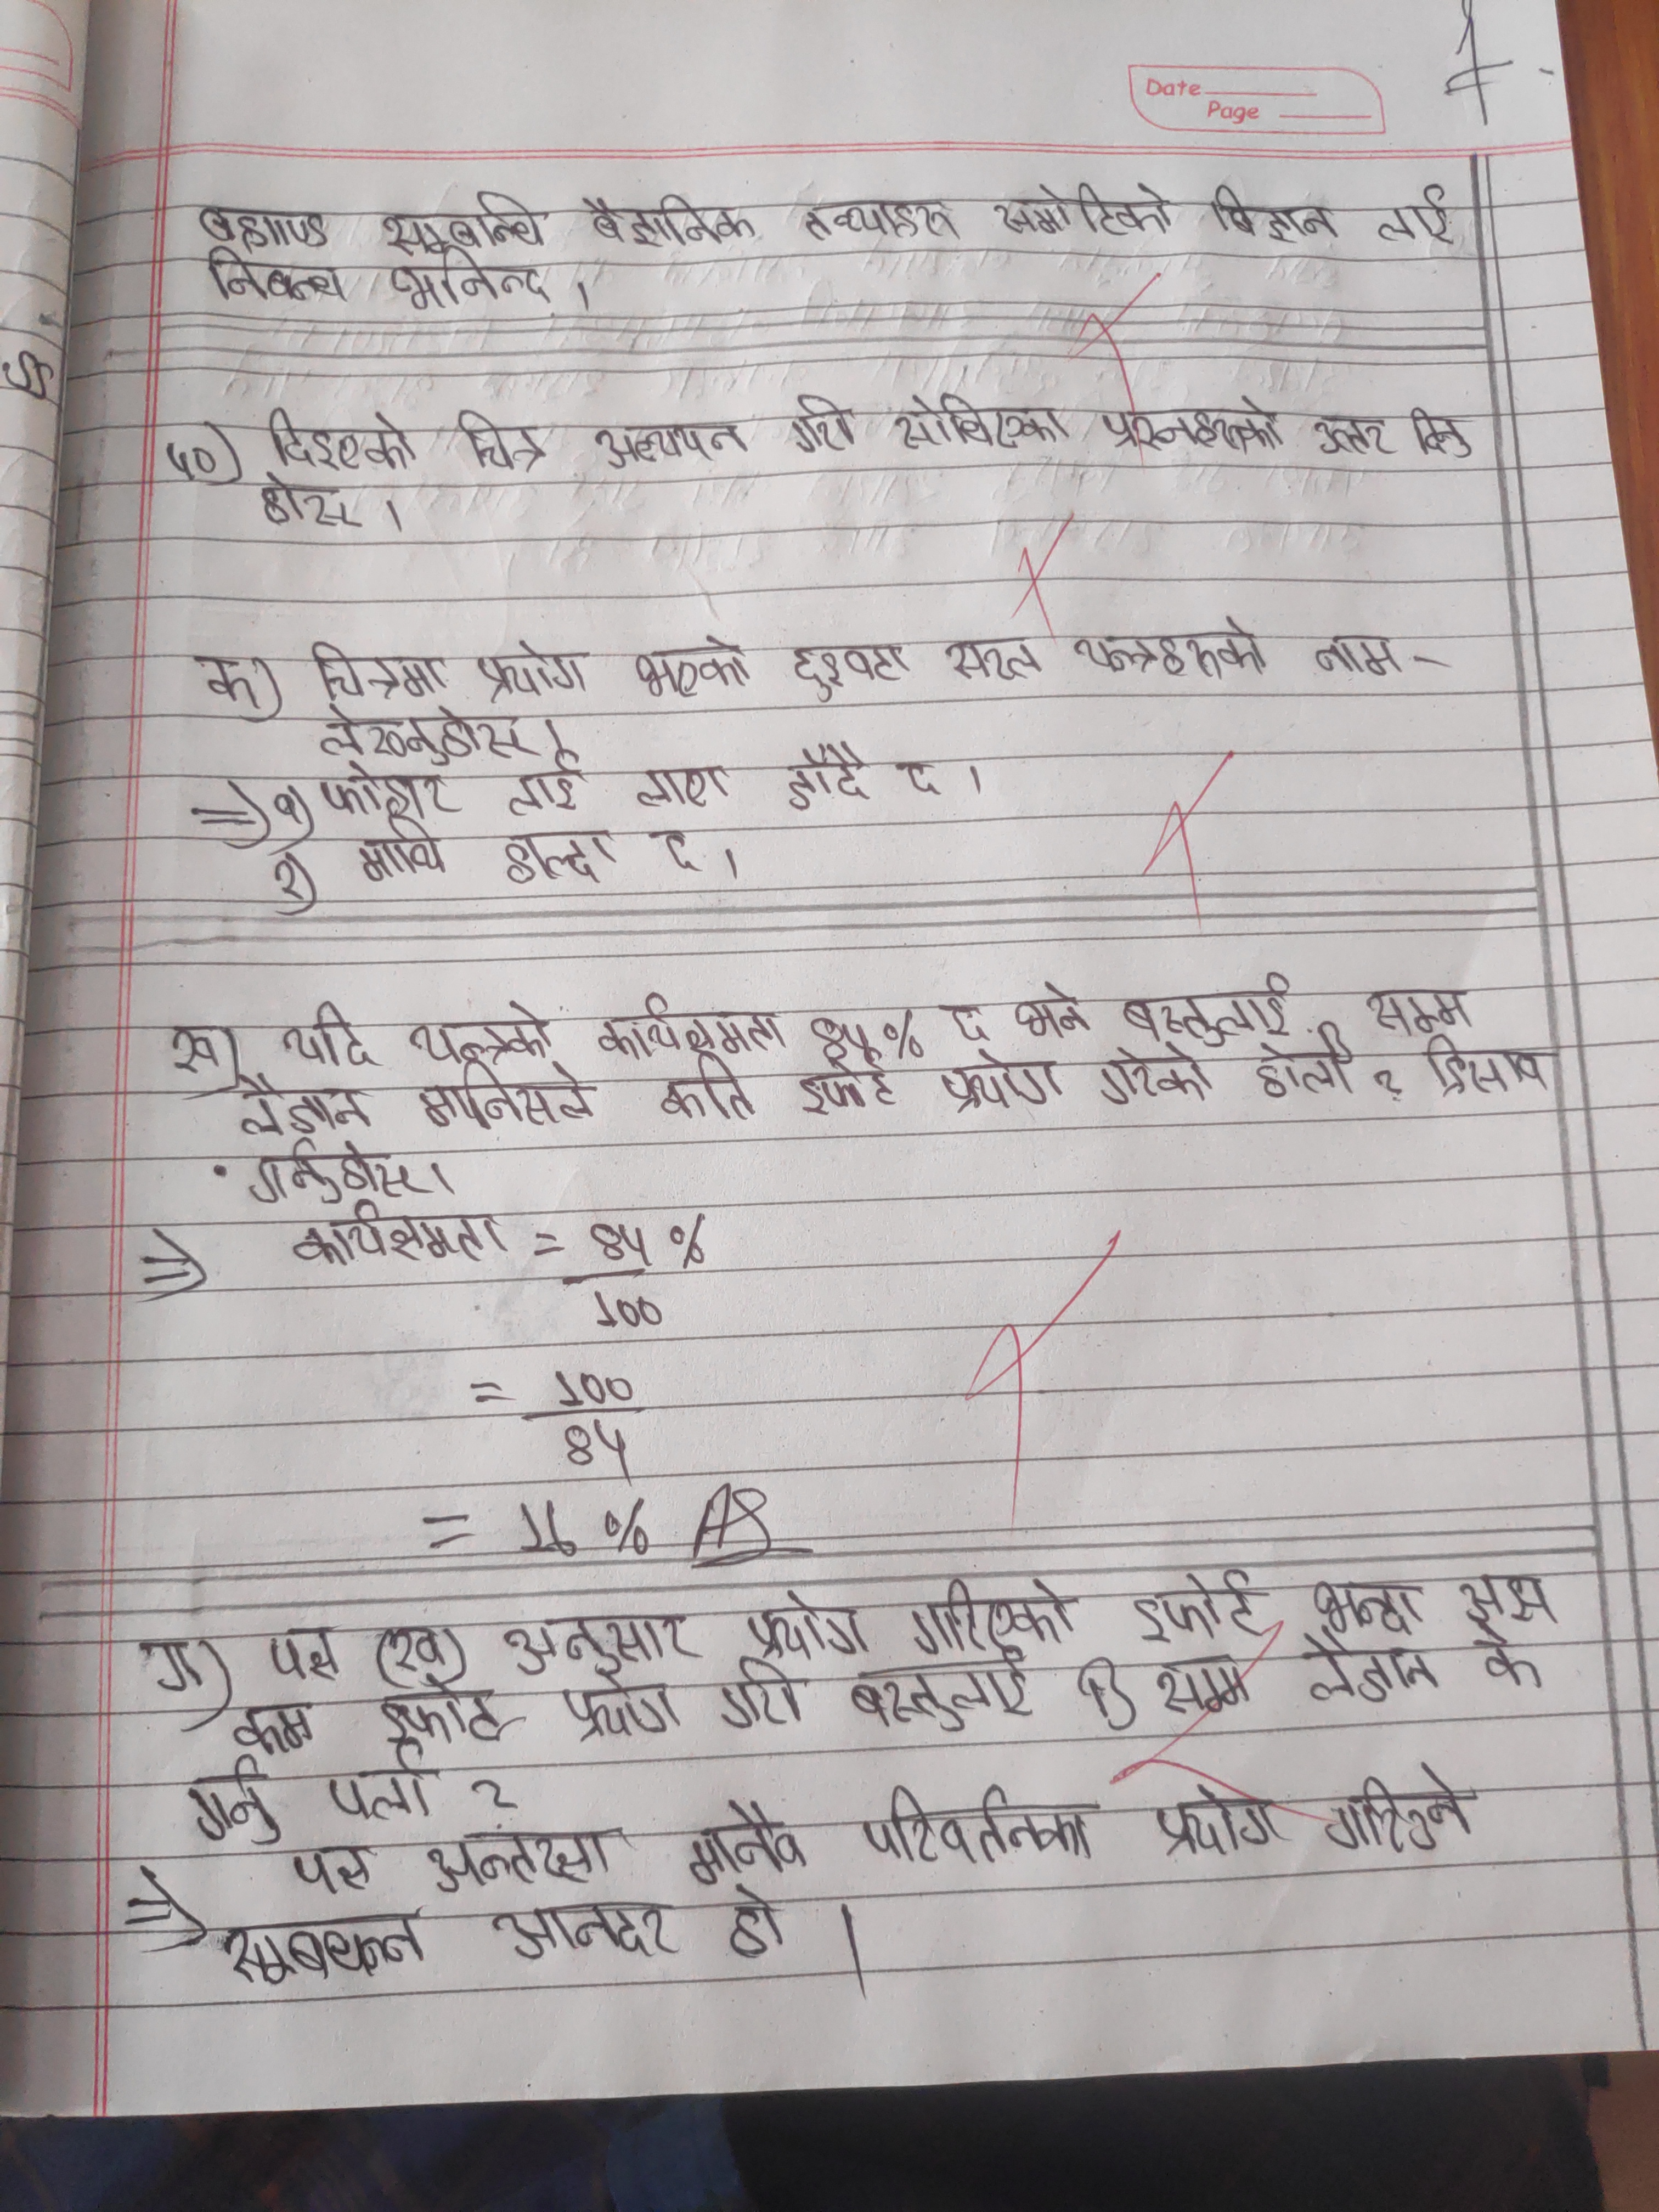text: (859, 1789, 1105, 1865), (836, 1646, 1042, 1733), (221, 1911, 436, 1987), (497, 1609, 697, 1684), (1317, 1770, 1480, 1860), (308, 707, 554, 765), (1072, 615, 1279, 683), (1117, 967, 1302, 1042), (596, 989, 793, 1059), (491, 1892, 676, 1965), (291, 1204, 511, 1264), (422, 1827, 620, 1893), (903, 1578, 1087, 1648), (575, 188, 765, 254), (416, 1068, 601, 1136), (232, 1139, 425, 1202), (260, 404, 429, 475), (990, 176, 1178, 239), (1127, 1566, 1274, 1646), (1098, 392, 1288, 453), (376, 247, 558, 310), (683, 1806, 810, 1895), (889, 390, 1073, 451), (225, 1071, 390, 1139), (373, 195, 558, 254), (1293, 1630, 1445, 1702), (314, 1745, 441, 1827), (406, 1000, 566, 1064), (1148, 1784, 1288, 1857), (197, 247, 357, 310), (307, 639, 457, 705), (1417, 1033, 1554, 1104), (497, 817, 626, 892), (1202, 185, 1344, 251), (181, 1757, 281, 1850), (373, 1679, 511, 1745), (786, 632, 915, 702), (315, 763, 476, 819), (554, 1677, 685, 1743), (788, 195, 958, 246), (589, 420, 760, 470), (936, 1052, 1068, 1116), (627, 637, 758, 702), (1141, 1653, 1258, 1724), (1100, 1038, 1218, 1108), (469, 639, 596, 704), (708, 1660, 816, 1735), (652, 1055, 765, 1127), (183, 200, 338, 251), (1453, 1566, 1574, 1630), (1249, 1036, 1358, 1108), (448, 409, 558, 479), (1300, 1578, 1427, 1635), (746, 1597, 868, 1656), (246, 474, 361, 536), (350, 817, 453, 885), (941, 627, 1046, 693), (277, 1010, 369, 1080), (779, 742, 875, 808), (1309, 627, 1415, 686), (720, 1888, 796, 1968), (228, 1698, 329, 1757), (1460, 1627, 1547, 1695), (796, 1064, 896, 1123), (1366, 984, 1476, 1036), (1377, 183, 1460, 249), (282, 1841, 382, 1897), (1006, 982, 1093, 1045), (500, 758, 589, 819), (192, 650, 277, 712), (1396, 401, 1478, 465), (784, 387, 857, 458), (1309, 404, 1399, 462), (261, 1623, 347, 1684), (636, 763, 734, 812), (652, 822, 713, 880), (894, 756, 955, 810), (941, 995, 985, 1045)
